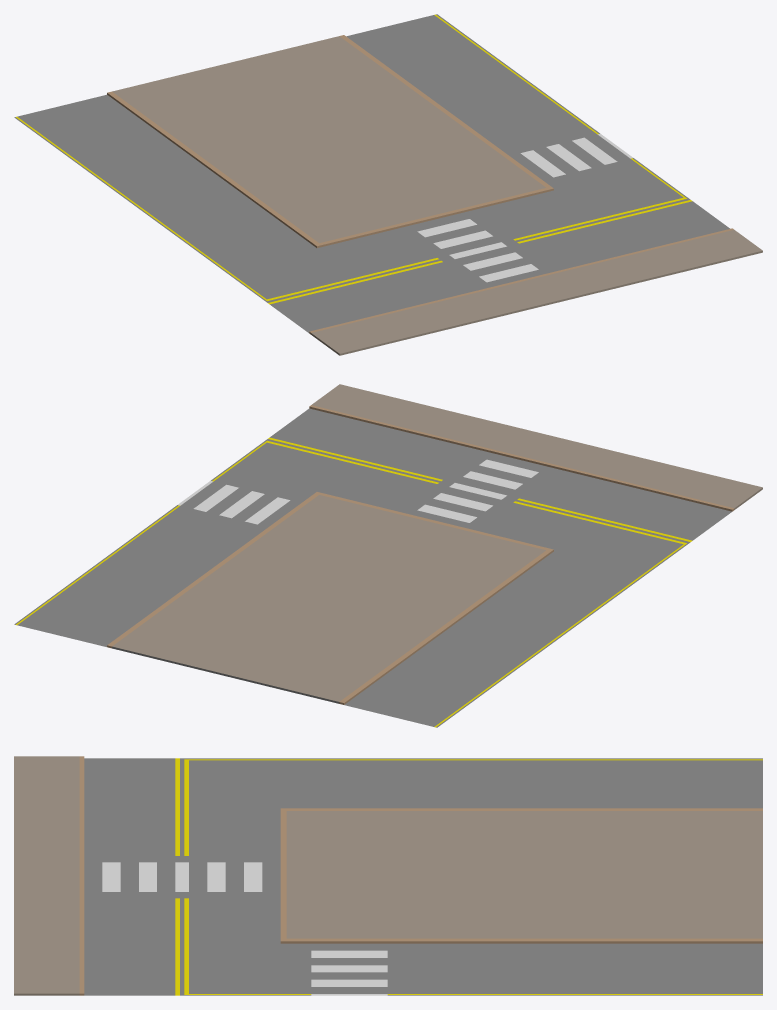
The model's file is Carretera.fbx.
3 views of the same model, one above another, from view 1: azimuth 30°, elevation 25°; view 2: azimuth 150°, elevation 25°; view 3: azimuth 270°, elevation 25° (orthographic). The views are drawn at different scales.
Visible parts, largest first — view 1: Plane001; view 2: Plane001; view 3: Plane001.
Boxes of the visible parts, x1,y1,x2,y2 form: Plane001: [14, 14, 762, 355]; Plane001: [14, 384, 762, 727]; Plane001: [14, 756, 762, 995].
Bounding box in the file's own units: 7500 × 33.04 × 10000.
